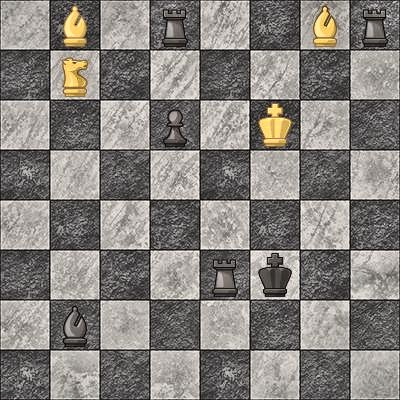black-bishop: (50, 300, 100, 350)
black-king: (250, 250, 300, 300)
black-pawn: (150, 100, 200, 150)
black-rook: (150, 0, 200, 50), (350, 0, 400, 50), (200, 250, 250, 300)
white-bishop: (50, 0, 100, 50), (300, 0, 350, 50)
white-king: (250, 100, 300, 150)
white-knight: (50, 50, 100, 100)
